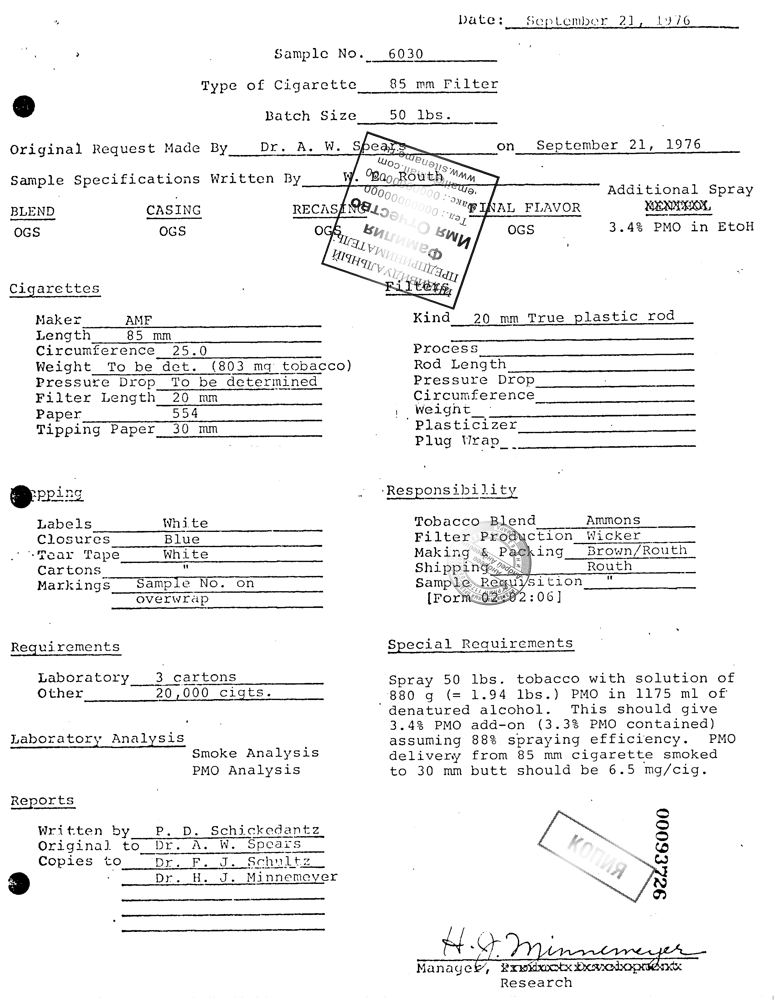circle: (431, 505, 547, 621)
rectangle: (321, 131, 500, 310)
word: (535, 808, 659, 905)
